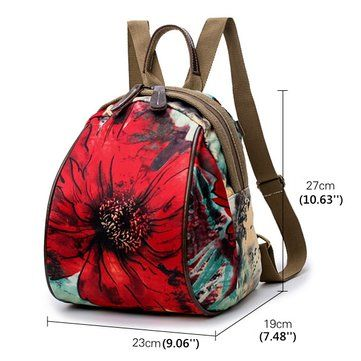nylon: (43, 17, 307, 316)
